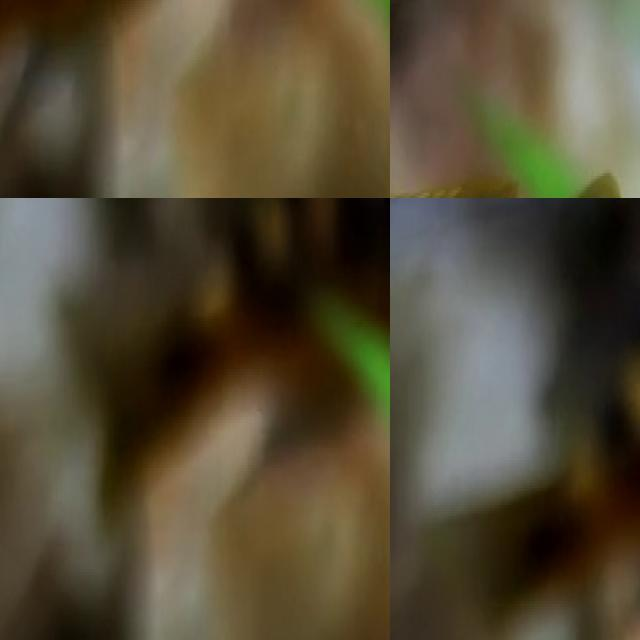fish: (434, 198, 640, 589), (0, 0, 390, 198), (390, 153, 640, 198)
